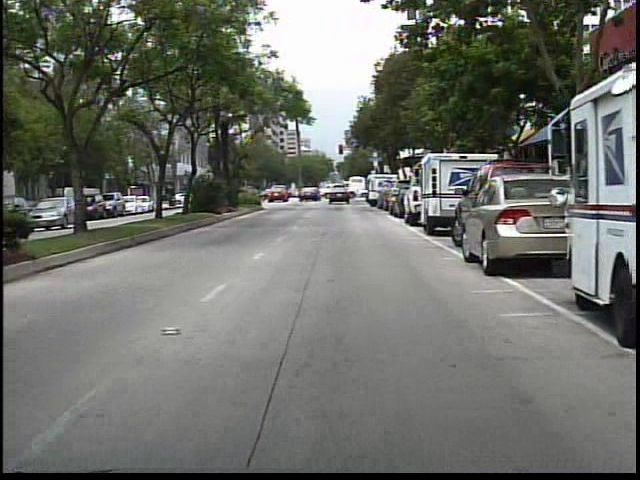person: (330, 183, 343, 203)
